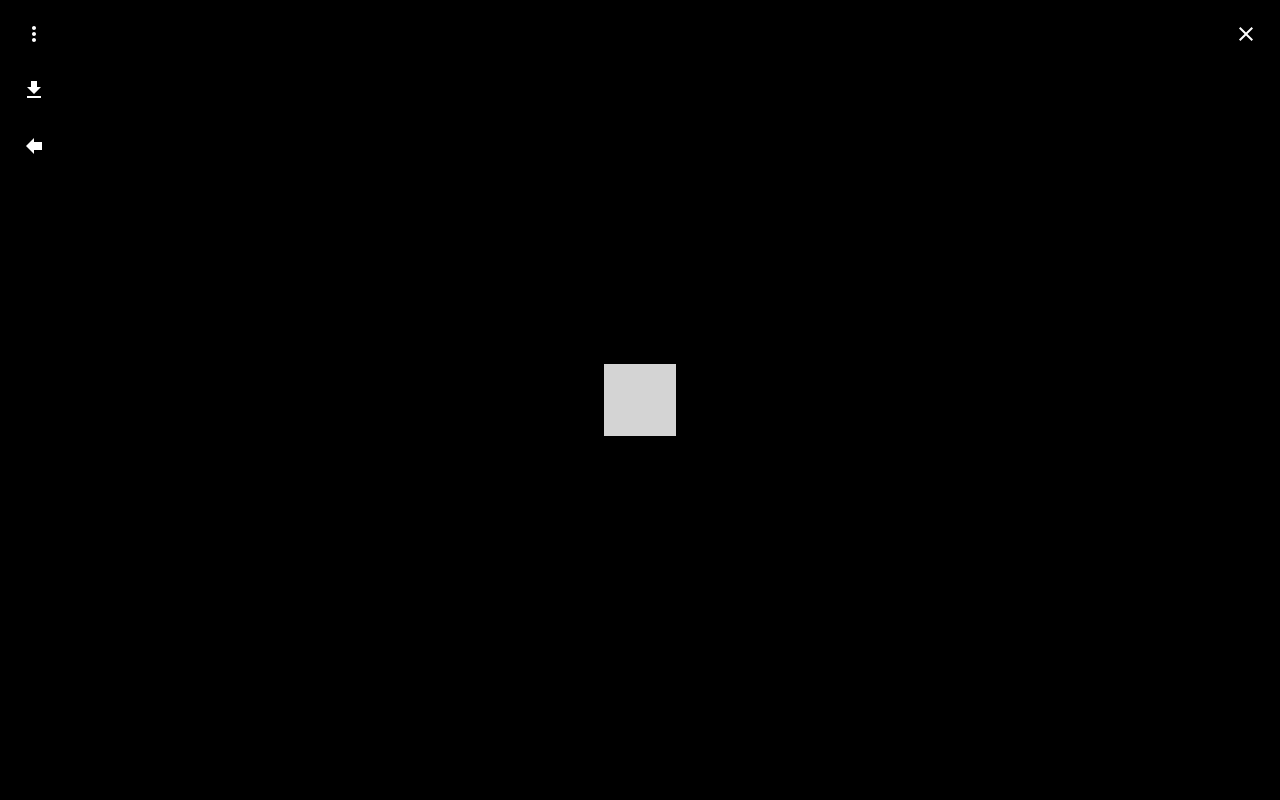
Test: ImageViewer › the picker's back arrow and Escape return to the image without forwarding
Earlier steps of the test are not shown.
Click the menu item named "העברה לשיחה אחרת" at (34, 146), box [12,124,56,168]
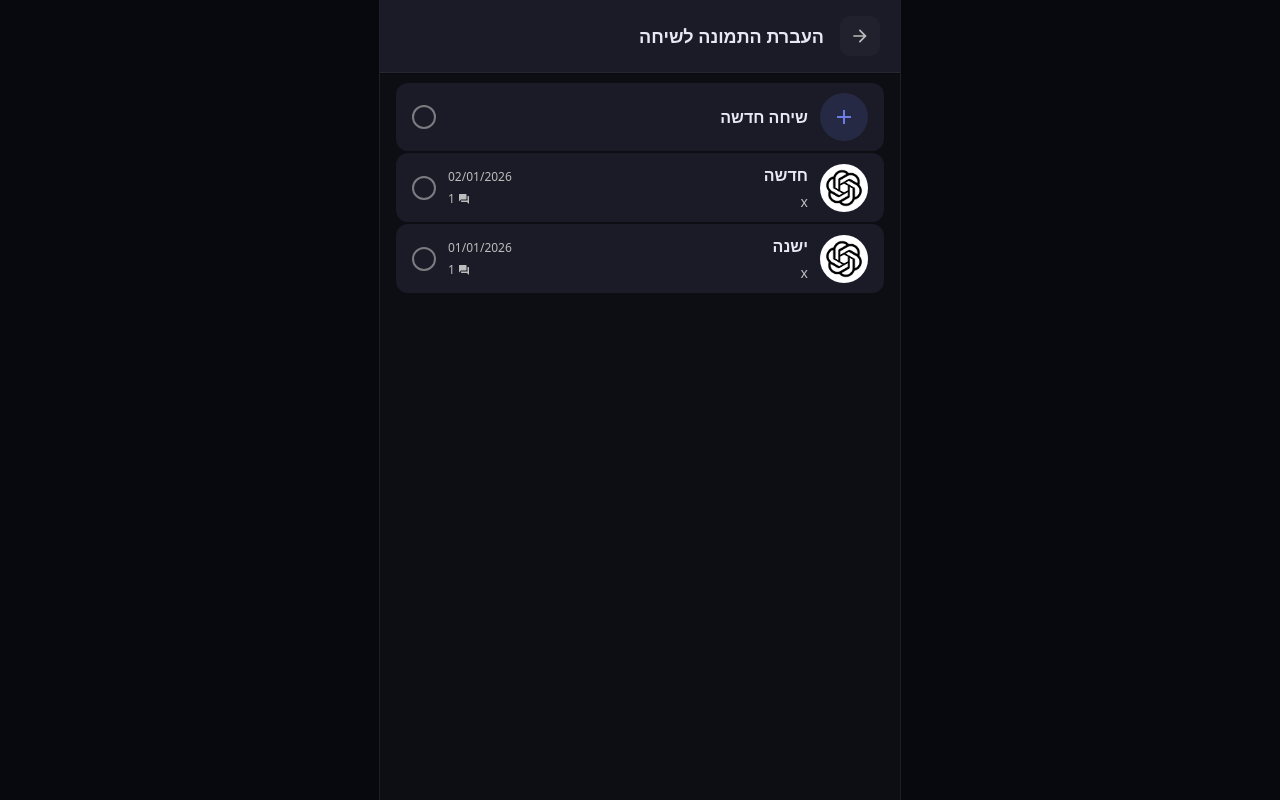
Click the radio button labelled "ישנה" at (640, 258), box [396,224,884,293]
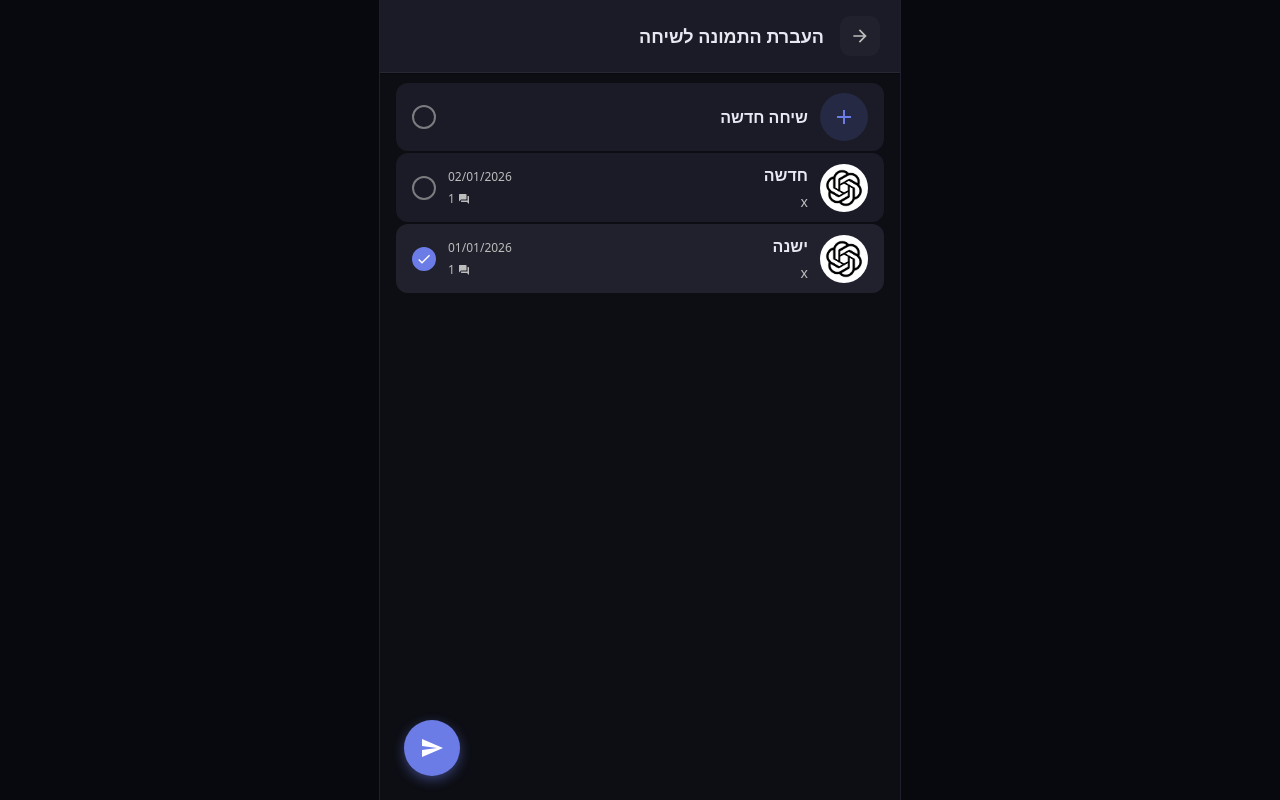
Click the button named "Back" at (860, 36), box [840,16,880,56]
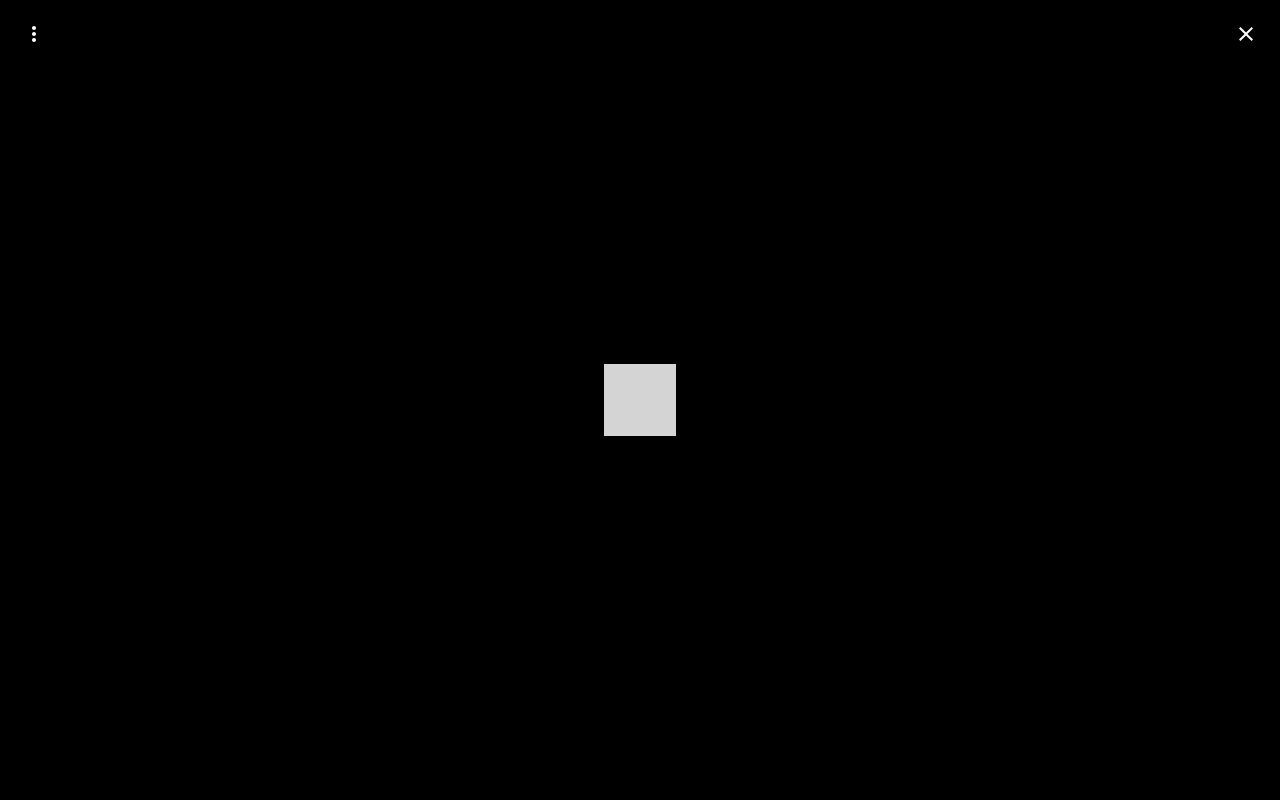
Expected: the dialog with test id "image-viewer" is shown
Expected: the element with test id "chat-picker" is gone
Click the button named "אפשרויות" at (34, 34), box [12,12,56,56]
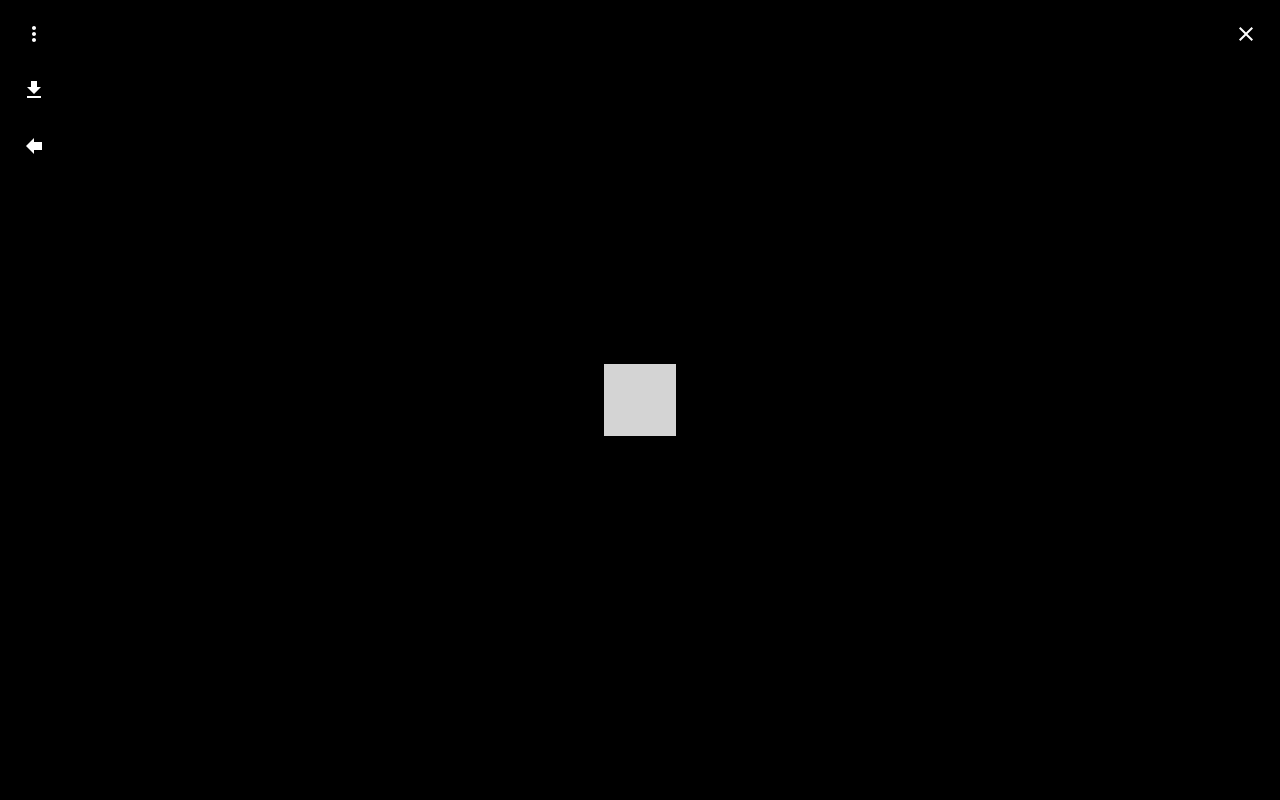
Click the menu item named "העברה לשיחה אחרת" at (34, 146), box [12,124,56,168]
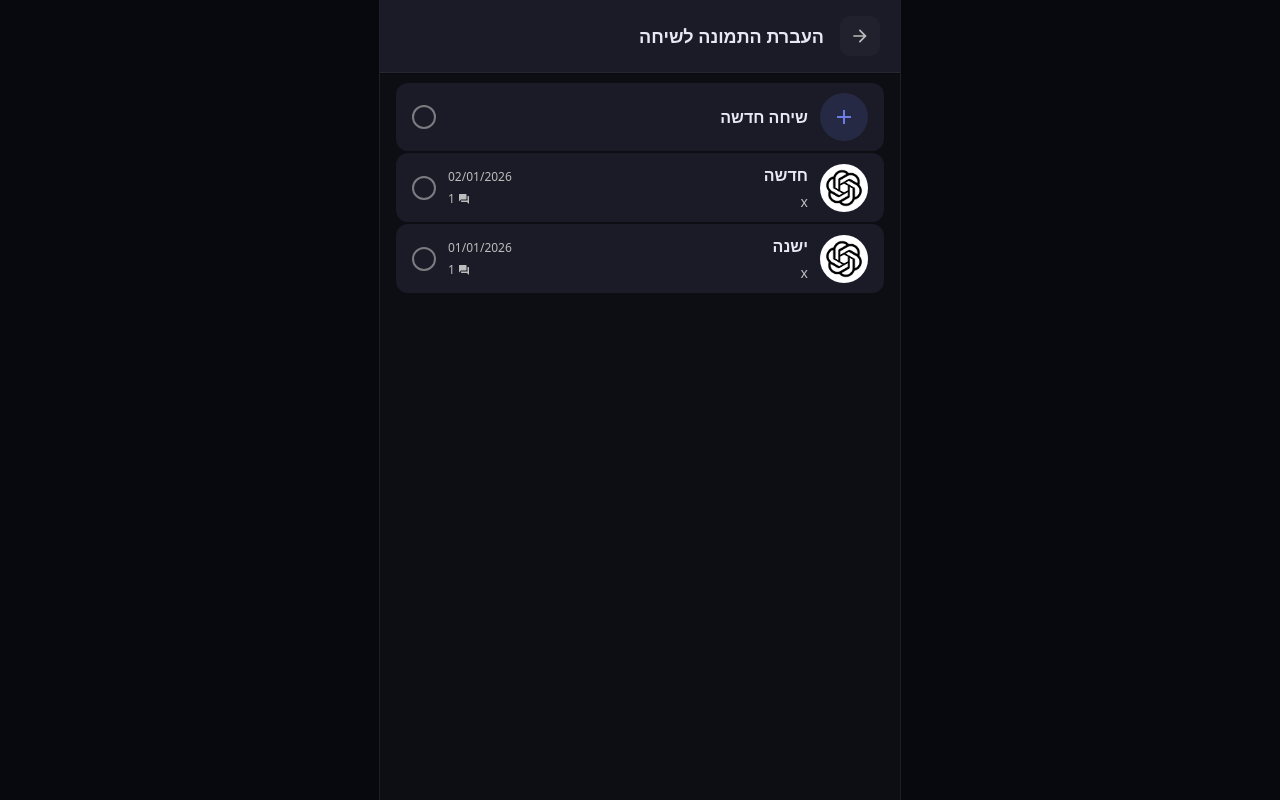
Expected: the radio button labelled "ישנה" is not checked, [396,224,884,293]
Press Escape
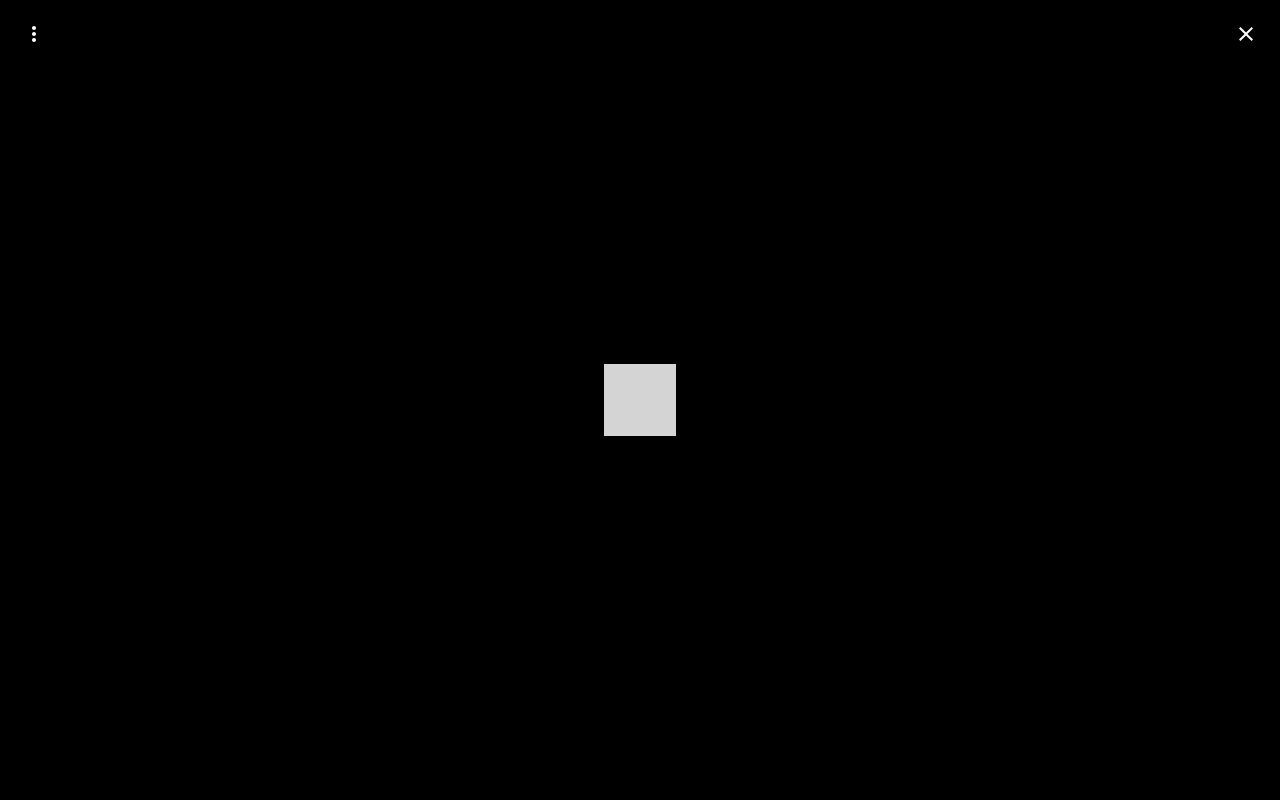
Expected: the dialog with test id "image-viewer" is shown
Expected: the element with test id "chat-picker" is gone
